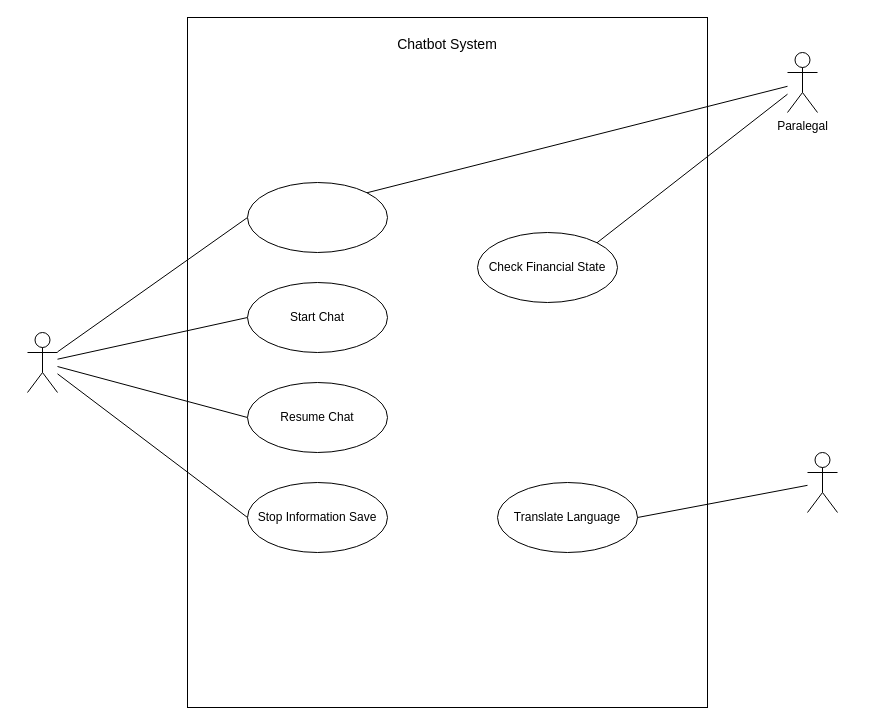
Image size: 885x725. Some labels were removed from this diagram. Each missing label, with the centre of its shape:
HATSOFF API: the point at 822,482
Log In: the point at 317,217
Tax Filers: the point at 42,362
